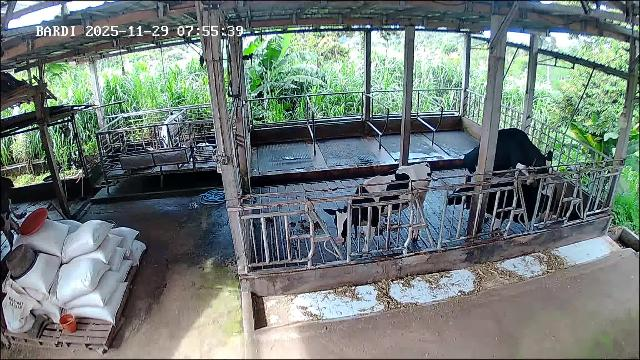mounting: (463, 126, 554, 211)
